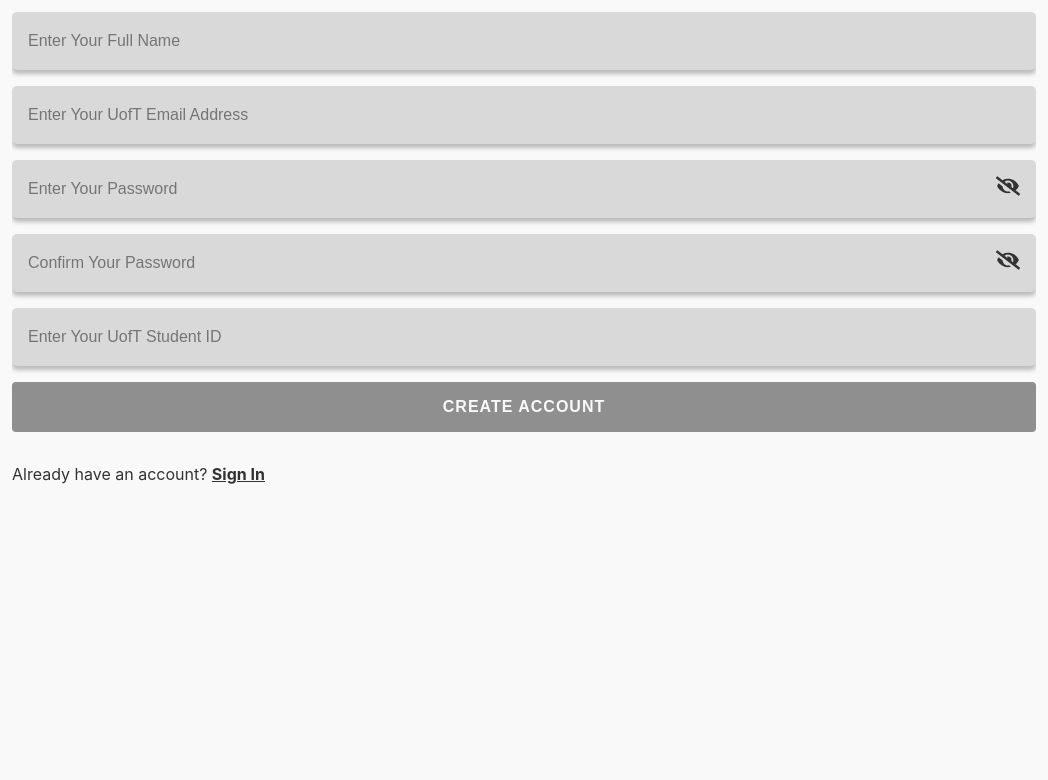
RegisterForm › should display error messages for empty fields
Click the button "Create Account" at (524, 407), box [12, 382, 1036, 432]
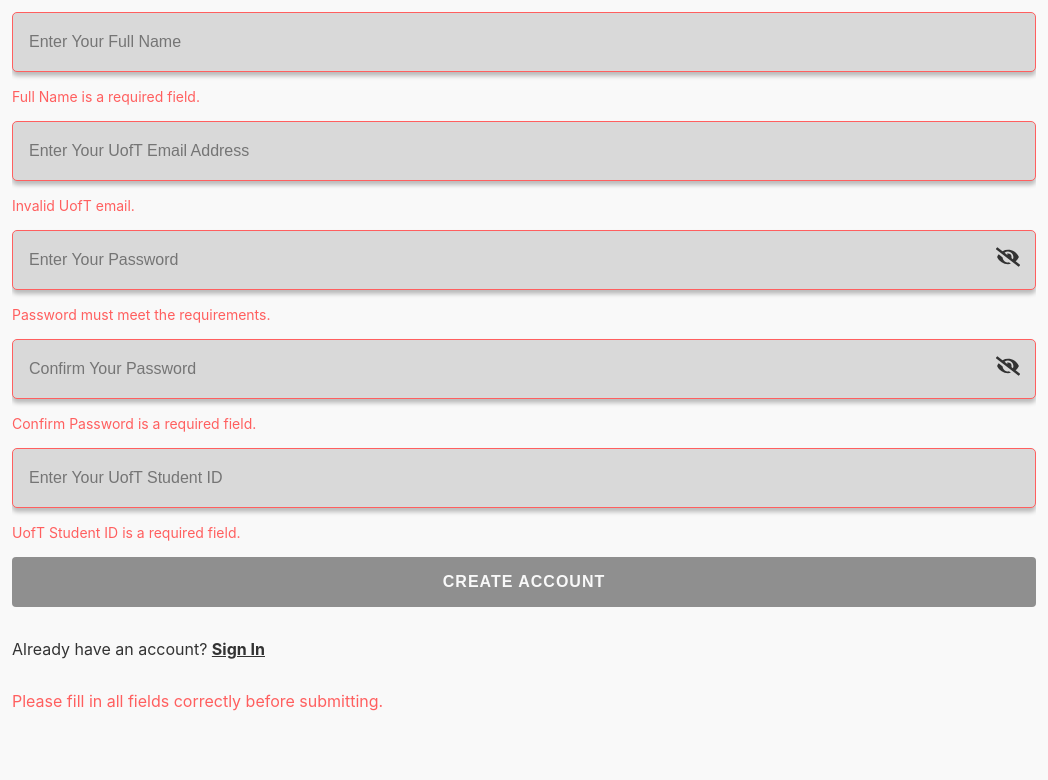
Check: the text "Full Name is a required field." is shown, box [12, 88, 200, 105]
Check: the text "Invalid UofT email." is shown, box [12, 197, 135, 214]
Check: the text "Password must meet the requirements." is shown, box [12, 306, 270, 323]
